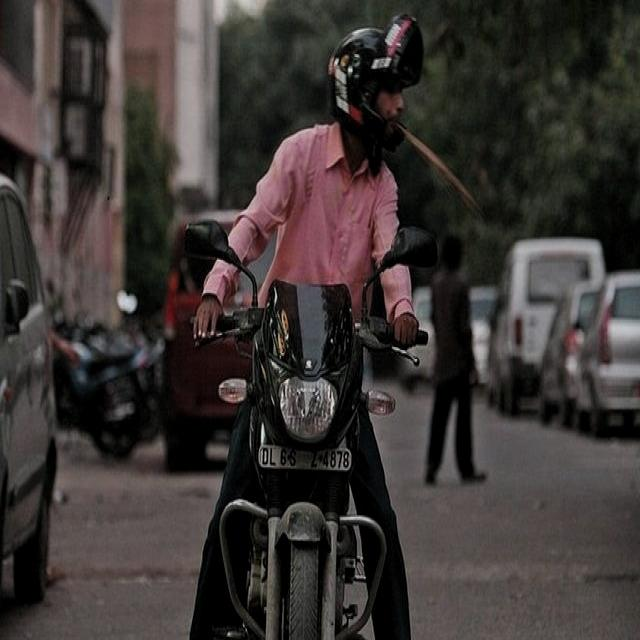Spitting: (315, 21, 462, 268)
